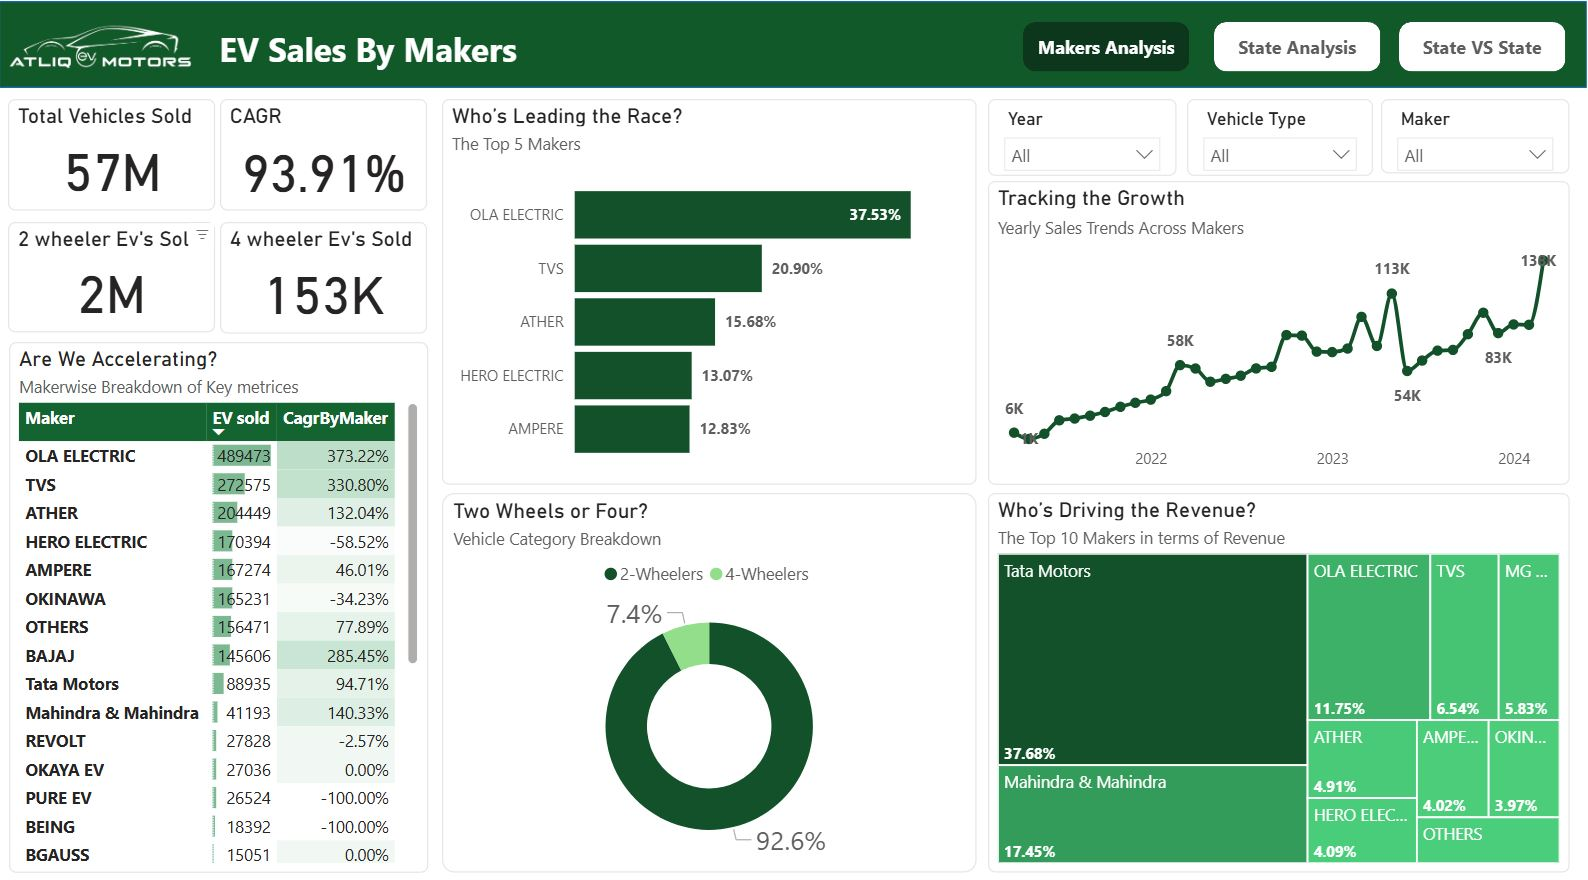

Layout of this report page (visuals, bound fields, positions):
{"tool":"powerbi","page":{"name":"Makers","canvas":[1280,720],"ordinal":1},"visuals":[{"type":"card","title":"Total Vehicles Sold","fields":{"Values":["Sum(electric_vehicle_sales_by_state.total_vehicles_sold)"]},"box":[7,88.9,167.3,90.5],"z":0},{"type":"card","title":"2 wheeler Ev''s Sold","fields":{"Values":["Sum(electric_vehicle_sales_by_makers.electric_vehicles_sold)"]},"box":[7,188.1,167.3,88.5],"z":1000},{"type":"slicer","fields":{"Values":["dim_date.fiscal_year"]},"box":[797.5,88.6,151.7,62.2],"z":2000},{"type":"slicer","fields":{"Values":["electric_vehicle_sales_by_makers.vehicle_category"]},"box":[958,88.6,149.8,62.2],"z":3000},{"type":"slicer","fields":{"Values":["electric_vehicle_sales_by_makers.maker"]},"box":[1114.6,88.6,151.7,60.3],"z":4000},{"type":"card","title":"4 wheeler Ev''s Sold","fields":{"Values":["Sum(electric_vehicle_sales_by_makers.electric_vehicles_sold)"]},"box":[178.2,188.1,167.3,90.5],"z":5000},{"type":"barChart","title":"Who’s Leading the Race? ","fields":{"Category":["electric_vehicle_sales_by_makers.maker"],"Y":["Sum(electric_vehicle_sales_by_makers.electric_vehicles_sold)"]},"box":[357.3,88.7,430.9,311.2],"z":6000},{"type":"lineChart","title":"Tracking the Growth","fields":{"Y":["Sum(electric_vehicle_sales_by_makers.electric_vehicles_sold)"],"Category":["dim_date.date.Variation.Date Hierarchy.Year","dim_date.date.Variation.Date Hierarchy.Quarter","dim_date.date.Variation.Date Hierarchy.Month","dim_date.date.Variation.Date Hierarchy.Day"]},"box":[797.6,154.7,468.8,245.1],"z":7000},{"type":"pivotTable","title":"Are We Accelerating? ","fields":{"Rows":["electric_vehicle_sales_by_makers.maker"],"Values":["Sum(electric_vehicle_sales_by_makers.electric_vehicles_sold)","electric_vehicle_sales_by_makers.CagrByMaker"]},"box":[7.8,285,338.5,428],"z":8000},{"type":"card","title":"CAGR","fields":{"Values":["electric_vehicle_sales_by_makers.CagrByMaker"]},"box":[178.2,88.9,167.3,90.5],"z":9000},{"type":"treemap","title":"Who’s Driving the Revenue? ","fields":{"Group":["electric_vehicle_sales_by_makers.maker"],"Values":["dim_date.RevenueByMaker"]},"box":[797.6,406.6,468.8,306.4],"z":10000},{"type":"donutChart","title":"Two Wheels or Four?","fields":{"Y":["Sum(electric_vehicle_sales_by_makers.electric_vehicles_sold)"],"Category":["electric_vehicle_sales_by_makers.vehicle_category"]},"box":[357,406.6,430.9,306.4],"z":11000},{"type":"shape","box":[0,9.8,1280.4,70],"z":12000},{"type":"textbox","box":[172.3,25.3,371.8,46.7],"z":13000},{"type":"image","box":[0,5.8,165.5,85.7],"z":14000},{"type":"actionButton","box":[825.7,26.3,134.2,39.9],"z":15000},{"type":"actionButton","box":[979.3,26.3,134.2,39.9],"z":16000},{"type":"actionButton","box":[1129.1,26.3,134.2,39.9],"z":17000}]}

Visuals, with their boxes in screenshot pixels (x1, y1, x2, y2), scaled from the page's 1280x720 canvas onto the 1588x880 screenshot:
"Total Vehicles Sold" card: (9, 109, 216, 219)
"2 wheeler Ev''s Sold" card: (9, 230, 216, 338)
slicer - dim_date.fiscal_year: (989, 108, 1178, 184)
slicer - electric_vehicle_sales_by_makers.vehicle_category: (1189, 108, 1374, 184)
slicer - electric_vehicle_sales_by_makers.maker: (1383, 108, 1571, 182)
"4 wheeler Ev''s Sold" card: (221, 230, 429, 341)
"Who’s Leading the Race? " barChart: (443, 108, 978, 489)
"Tracking the Growth" lineChart: (990, 189, 1571, 489)
"Are We Accelerating? " pivotTable: (10, 348, 430, 871)
"CAGR" card: (221, 109, 429, 219)
"Who’s Driving the Revenue? " treemap: (990, 497, 1571, 871)
"Two Wheels or Four?" donutChart: (443, 497, 977, 871)
shape: (0, 12, 1587, 98)
textbox: (214, 31, 675, 88)
image: (0, 7, 205, 112)
actionButton: (1024, 32, 1191, 81)
actionButton: (1215, 32, 1381, 81)
actionButton: (1401, 32, 1567, 81)
